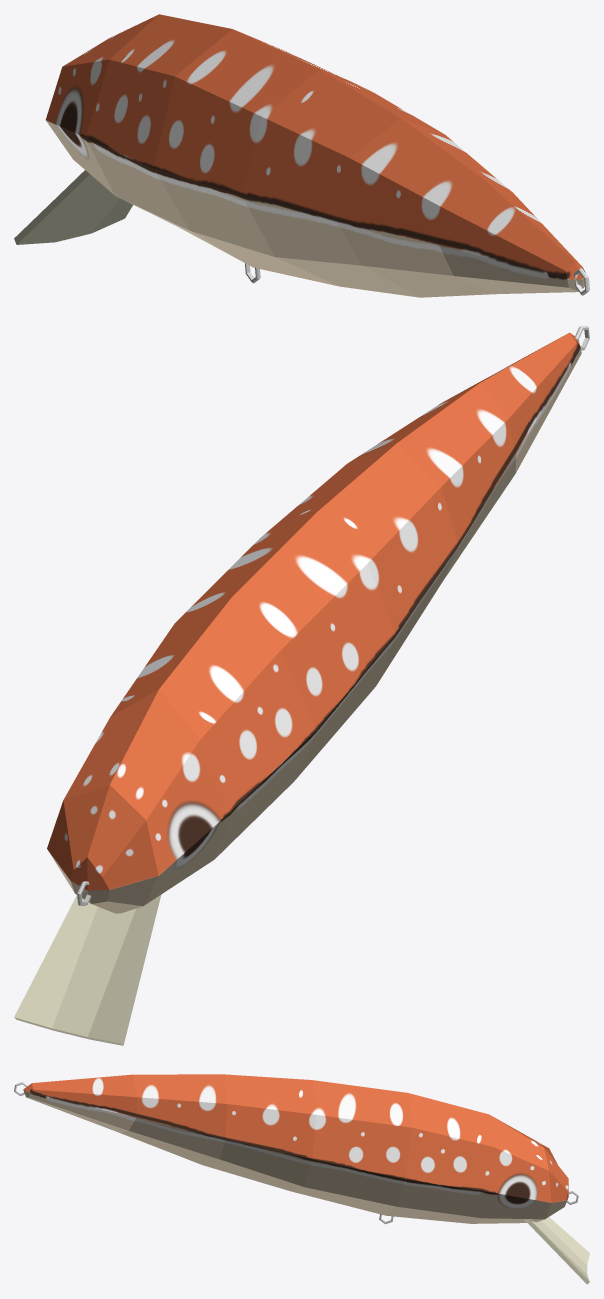
File: MinnorRedWhite.fbx
3 renders of one model, top to bottom at view 1: azimuth 30°, elevation 25°; view 2: azimuth 150°, elevation 25°; view 3: azimuth 270°, elevation 25°, orthographic. The views are drawn at different scales.
Parts seen in each view (by area): view 1: Plane, Plane.001; view 2: Plane, Plane.001; view 3: Plane, Plane.001.
Boxes of the visible parts, x1,y1,x2,y2 form: Plane: (45,14,585,297); Plane.001: (14,170,132,244); Plane: (47,332,581,913); Plane.001: (14,895,161,1045); Plane: (23,1074,568,1223); Plane.001: (524,1217,589,1284).
Bounding box in the file's own units: 70.37 × 147 × 387.
